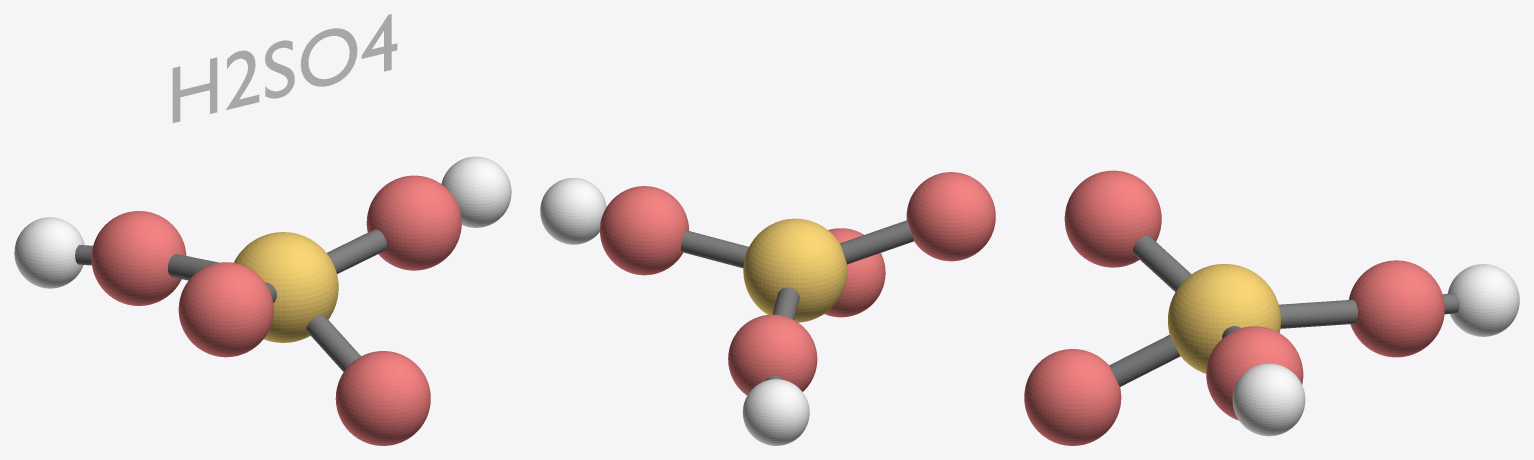
3 views of the same model, side by side, from view 1: azimuth 30°, elevation 25°; view 2: azimuth 150°, elevation 25°; view 3: azimuth 270°, elevation 25° (orthographic). The views are drawn at different scales.
Visible parts, largest first — view 1: O3, O4, S, O1, O2, Label_H2SO4, H1, H2, Bond_S_O4, Bond_S_O1, Bond_S_O2; view 2: S, O3, O1, O2, H1, H2, O4, Bond_S_O3, Bond_S_O1, Bond_S_O2; view 3: S, O4, O2, O3, O1, H2, H1, Bond_S_O2, Bond_S_O4, Bond_S_O3.
Boxes of the visible parts, bbox=[...] form: O3: bbox=[178, 262, 273, 357]; O4: bbox=[335, 351, 430, 445]; S: bbox=[234, 232, 338, 342]; O1: bbox=[366, 175, 461, 270]; O2: bbox=[91, 211, 186, 305]; Label_H2SO4: bbox=[172, 14, 397, 122]; H1: bbox=[14, 217, 84, 288]; H2: bbox=[441, 156, 511, 227]; Bond_S_O4: bbox=[306, 314, 360, 371]; Bond_S_O1: bbox=[327, 229, 386, 273]; Bond_S_O2: bbox=[168, 254, 218, 280]; S: bbox=[743, 218, 847, 322]; O3: bbox=[906, 172, 995, 261]; O1: bbox=[600, 186, 688, 275]; O2: bbox=[728, 314, 817, 395]; H1: bbox=[742, 379, 809, 445]; H2: bbox=[540, 178, 606, 244]; O4: bbox=[824, 228, 885, 317]; Bond_S_O3: bbox=[840, 220, 913, 264]; Bond_S_O1: bbox=[681, 230, 748, 268]; Bond_S_O2: bbox=[772, 287, 799, 319]; S: bbox=[1168, 264, 1280, 373]; O4: bbox=[1024, 349, 1121, 445]; O2: bbox=[1348, 260, 1444, 357]; O3: bbox=[1064, 170, 1161, 267]; O1: bbox=[1206, 326, 1303, 420]; H2: bbox=[1232, 363, 1305, 436]; H1: bbox=[1447, 264, 1519, 336]; Bond_S_O2: bbox=[1279, 299, 1357, 328]; Bond_S_O4: bbox=[1109, 335, 1180, 386]; Bond_S_O3: bbox=[1132, 235, 1191, 291].
Bounding box in the file's own units: 2.32 × 1.97 × 2.45.
